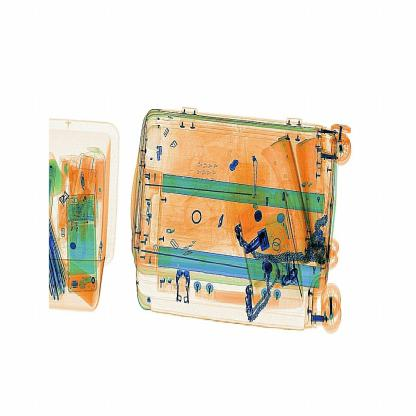knife: (237, 228, 273, 258)
